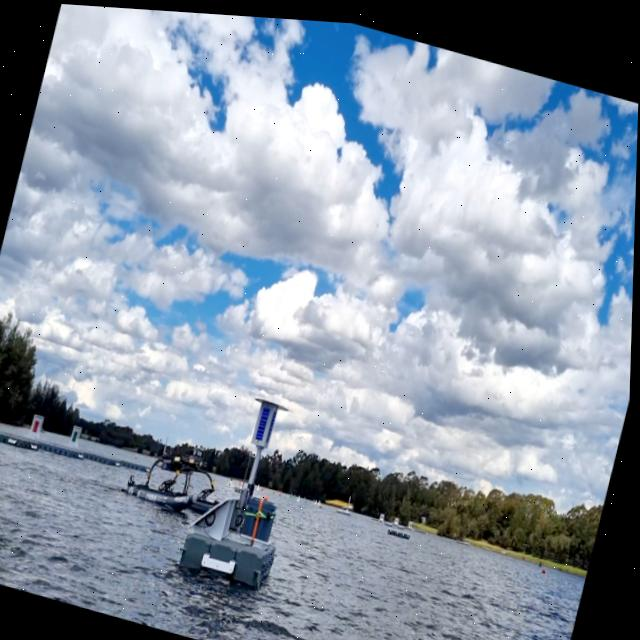led: (256, 398, 275, 442)
